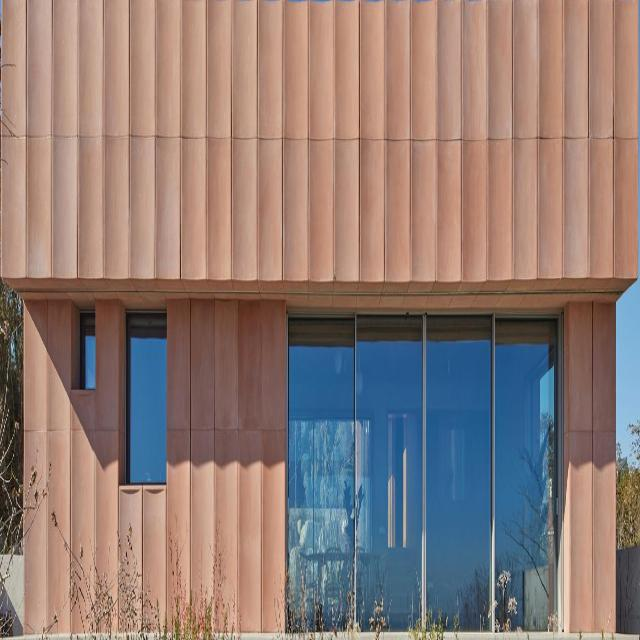window: (287, 314, 561, 633), (128, 319, 166, 477), (79, 318, 96, 387)
